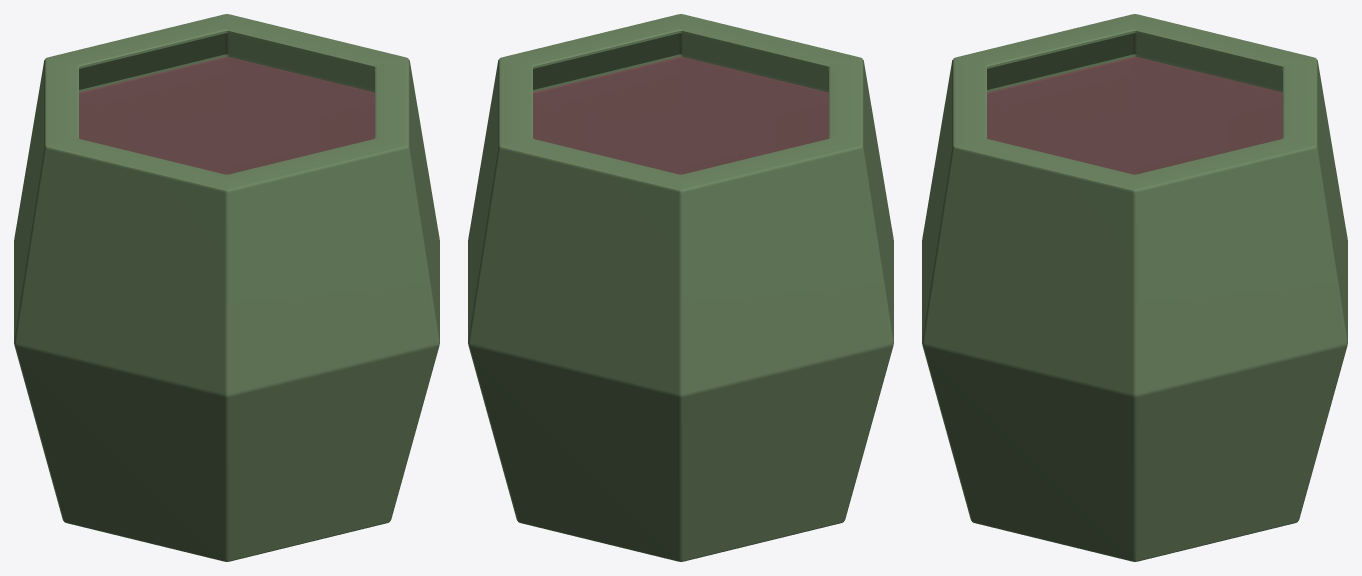
File: Vase2.fbx
The picture shows the model from 3 angles, left to right: view 1: azimuth 30°, elevation 25°; view 2: azimuth 150°, elevation 25°; view 3: azimuth 270°, elevation 25°; orthographic projection.
Visible parts, largest first — view 1: Vase2; view 2: Vase2; view 3: Vase2.
Boxes of the visible parts, bbox=[...] form: Vase2: bbox=[14, 14, 439, 561]; Vase2: bbox=[468, 14, 893, 561]; Vase2: bbox=[922, 14, 1347, 561].
Size of the model in its own units: 2.33 by 2 by 2.02.
